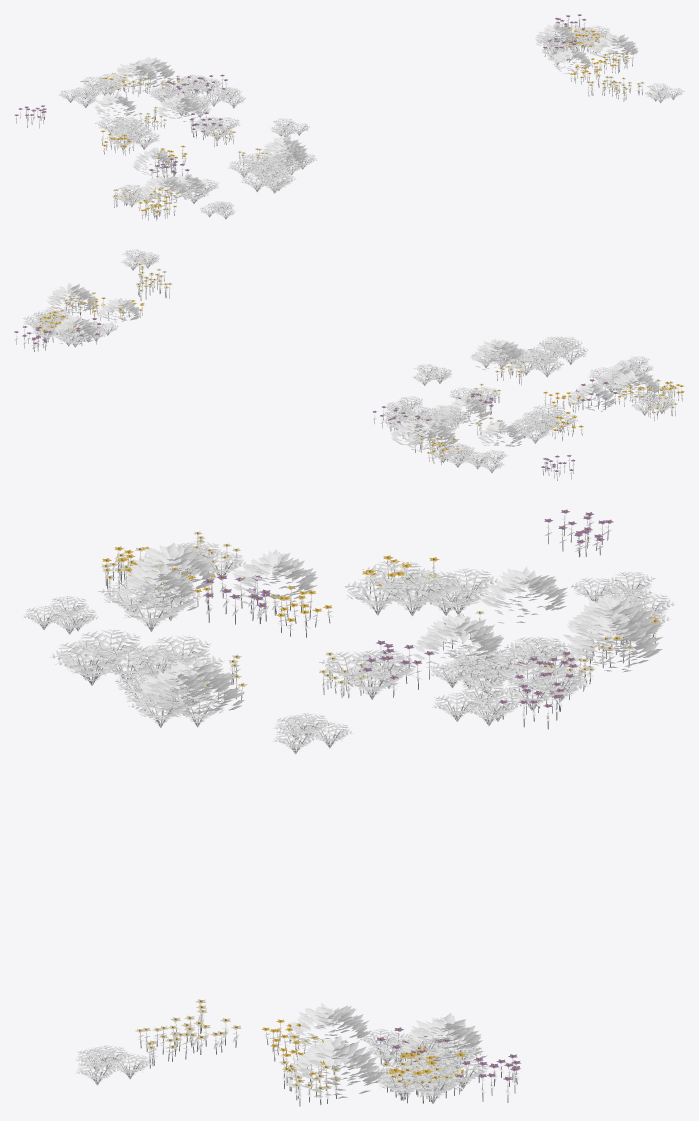
Rendered from SM_DF_Nature_0_2_Flora.fbx.
3 views of the same model, one above another, from view 1: azimuth 30°, elevation 25°; view 2: azimuth 150°, elevation 25°; view 3: azimuth 270°, elevation 25° (orthographic). The views are drawn at different scales.
Visible parts, largest first — view 1: SM_DF_Nature_0_2_Flora; view 2: SM_DF_Nature_0_2_Flora; view 3: SM_DF_Nature_0_2_Flora.
Boxes of the visible parts, <box> form: SM_DF_Nature_0_2_Flora: <box>14,14,684,220</box>; SM_DF_Nature_0_2_Flora: <box>14,249,684,480</box>; SM_DF_Nature_0_2_Flora: <box>23,509,675,1106</box>.
Bounding box in the file's own units: 2828 × 1439 × 237.
